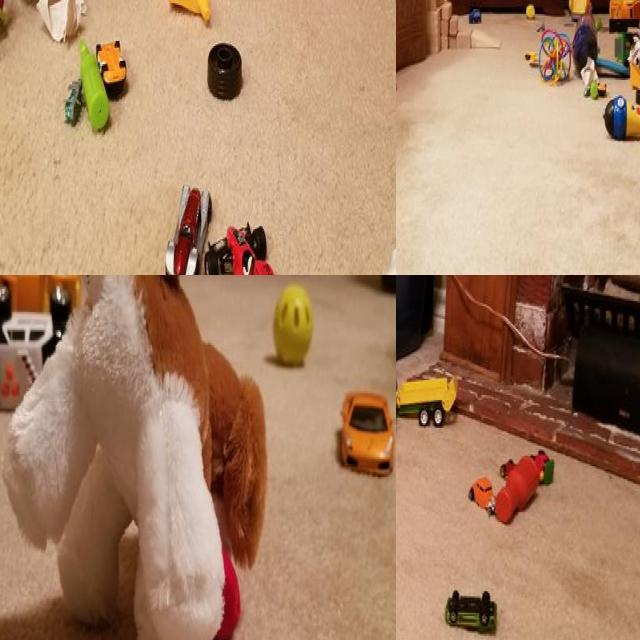toy: (9, 275, 258, 640), (0, 285, 72, 415), (493, 444, 555, 524), (205, 221, 286, 275), (396, 359, 459, 428), (342, 388, 392, 471), (167, 174, 208, 275), (445, 585, 502, 637), (80, 37, 111, 131), (274, 289, 312, 360), (206, 40, 244, 101), (540, 27, 573, 89), (349, 234, 396, 275), (464, 472, 499, 524), (98, 32, 128, 91), (574, 20, 600, 83), (605, 94, 640, 139), (158, 0, 214, 28), (576, 58, 607, 102), (65, 65, 84, 136), (592, 49, 631, 82), (610, 0, 640, 32), (618, 29, 640, 67), (524, 42, 544, 74), (565, 0, 593, 20), (468, 1, 483, 27), (631, 28, 640, 68), (524, 4, 538, 20), (396, 75, 399, 94)
